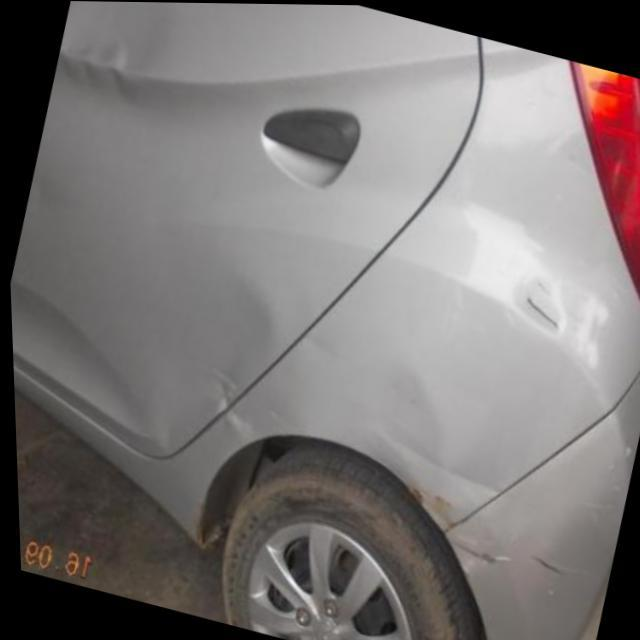dent: (205, 354, 292, 443), (54, 44, 140, 105)
scratch: (367, 427, 507, 500), (511, 273, 567, 338), (400, 477, 458, 526), (454, 531, 508, 569), (518, 546, 559, 574)
